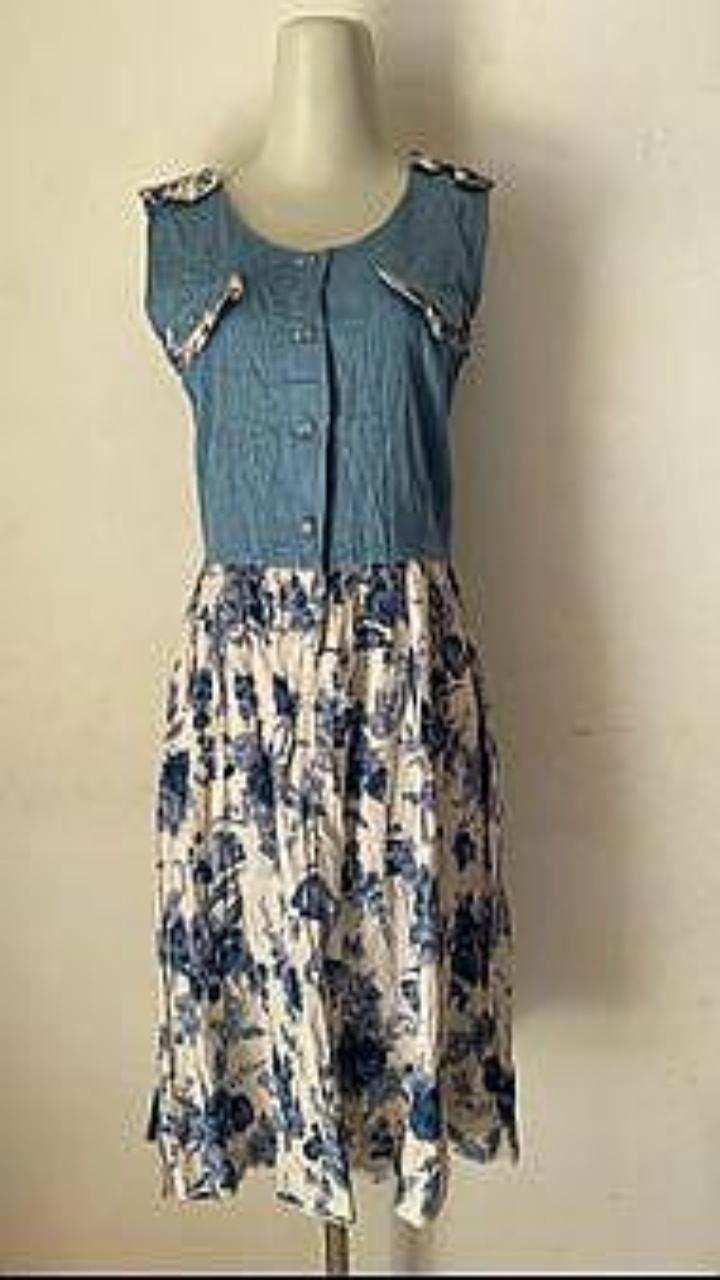Dresses: (141, 150, 518, 1226)
